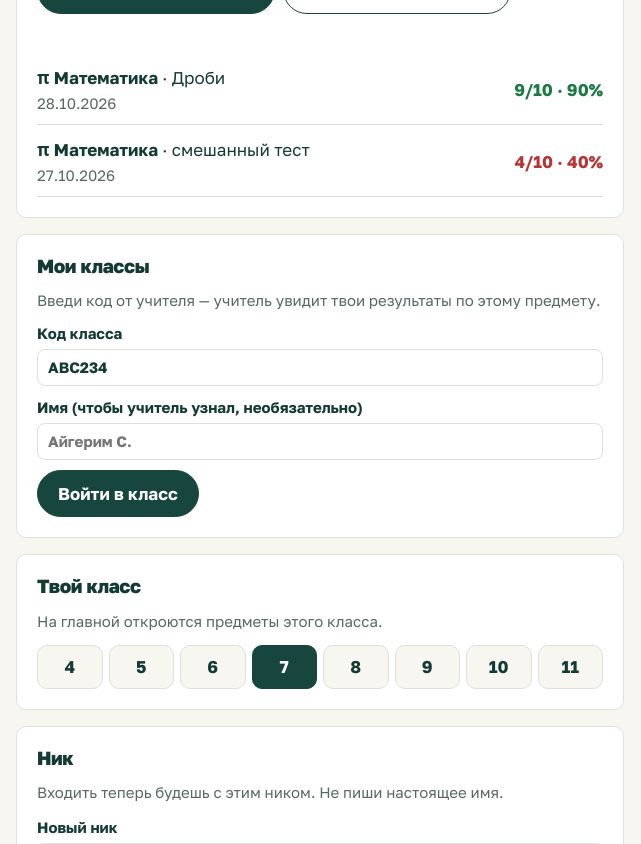
Test case: кабинет: классы (№102) › ссылка учителя /me?join=КОД: код подставлен; вход в класс; неверный код — понятная ошибка
(page scrolled)
expect the field labelled "Код класса" holds "ABC234": met, box [37, 349, 603, 386]
Type "Айдос К." into the field labelled "Имя (чтобы учитель узнал, необязательно)". click: (320, 442)
box: [37, 423, 603, 460]
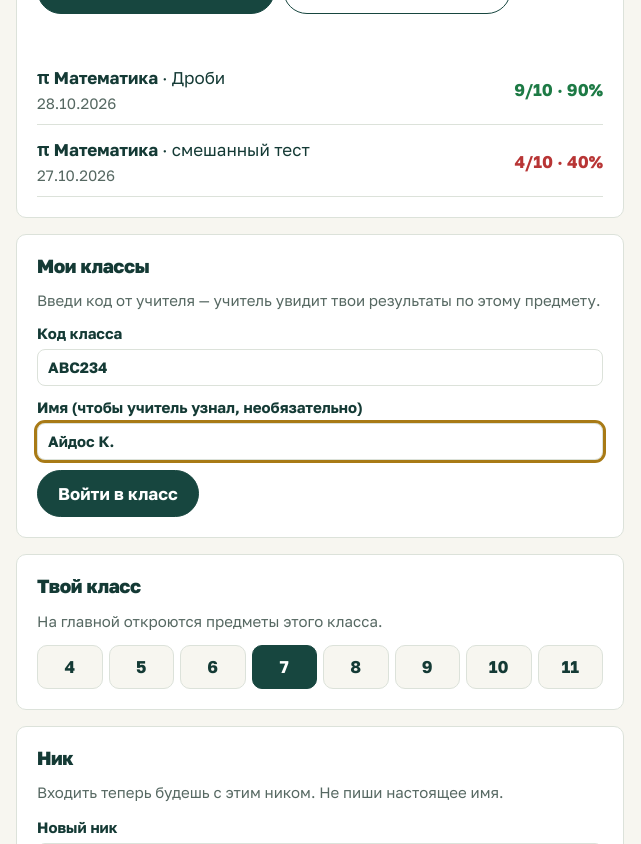
Click the button "Войти в класс". click: click(118, 494)
box: [37, 470, 199, 517]
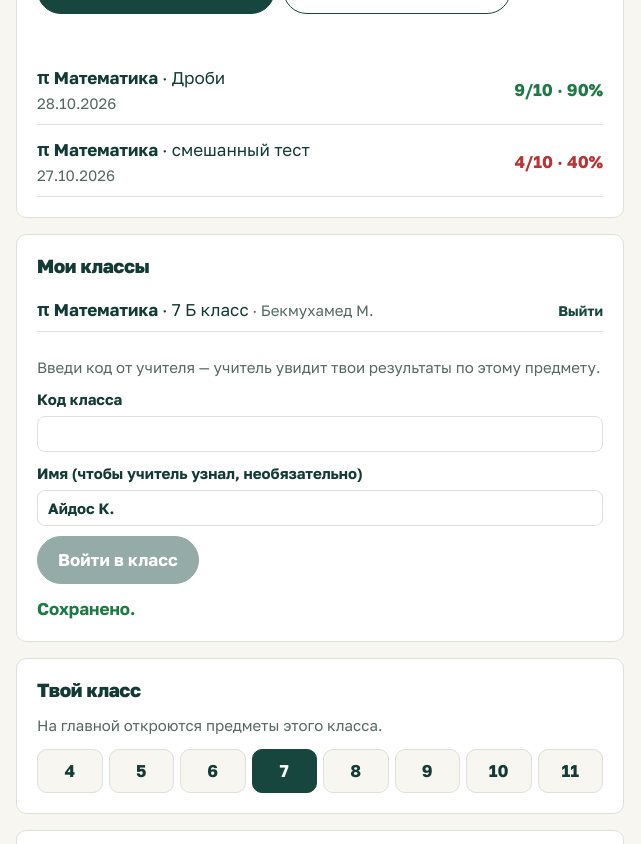
expect the text "· Бекмухамед М." is shown: met, box [249, 301, 374, 319]
Type "ZZZZZZ" into the field labelled "Код класса". click: (320, 434)
box: [37, 416, 603, 452]
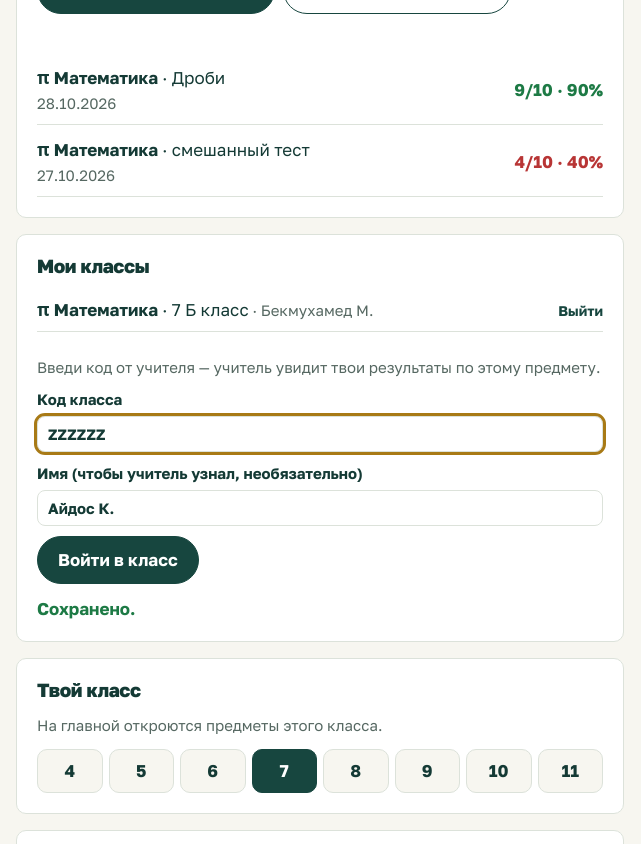
Click the button "Войти в класс". click: click(118, 560)
box: [37, 536, 199, 584]
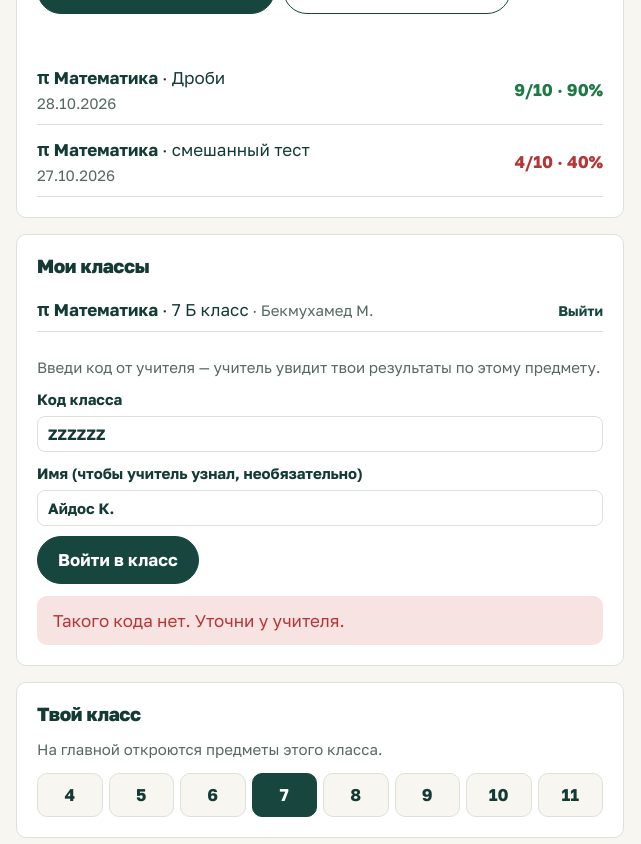
expect the text "Такого кода нет. Уточни у учителя." is shown: met, box [37, 596, 603, 645]
